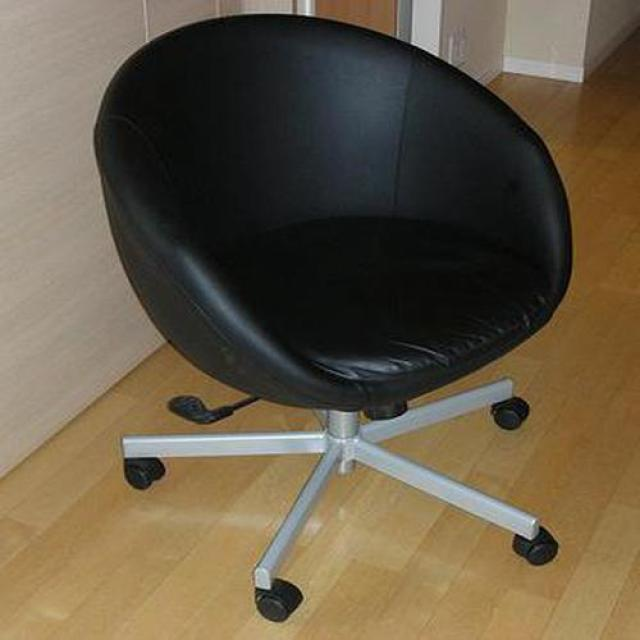swivelchair: (93, 14, 575, 625)
